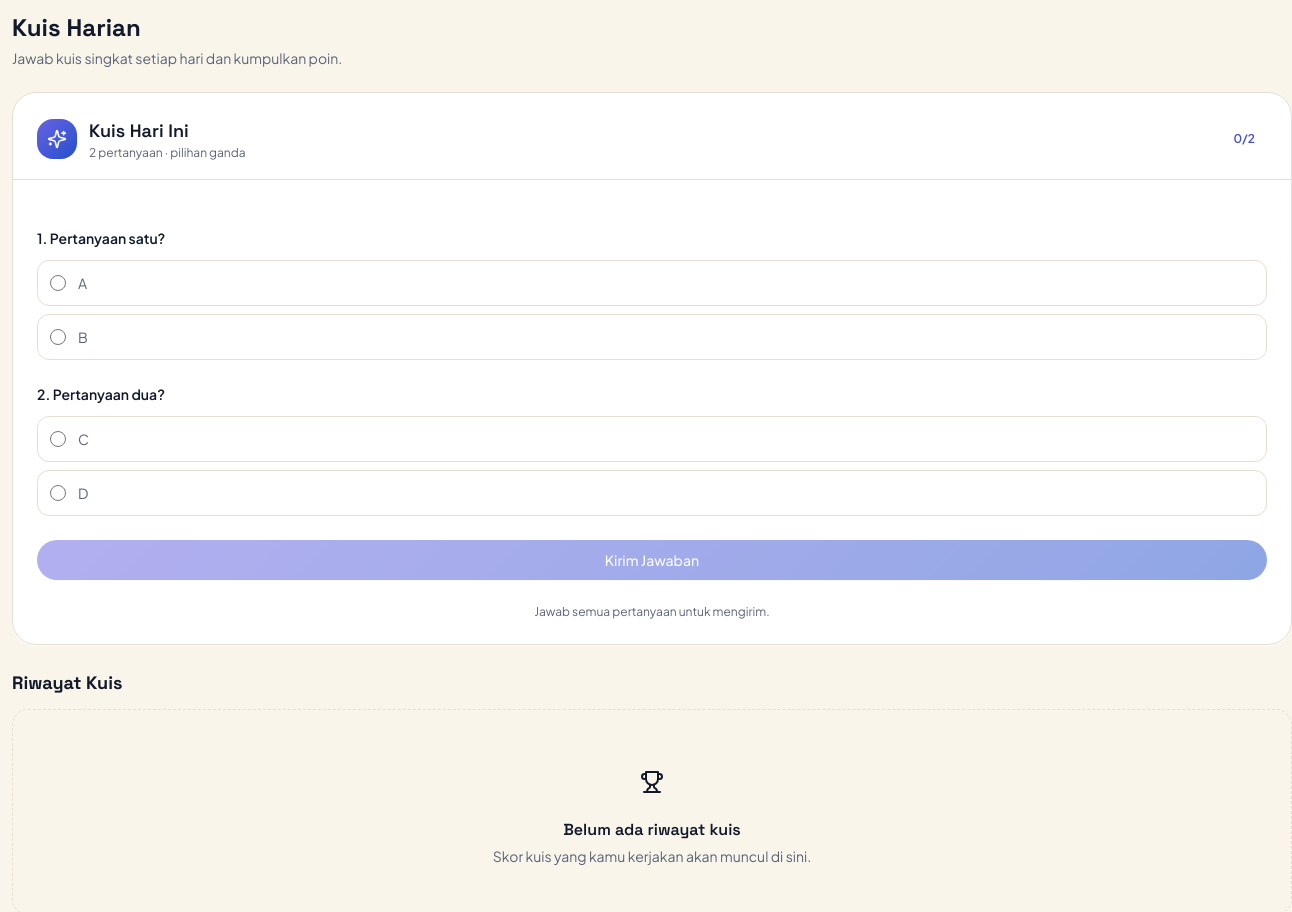
Test: QuizPage › keeps submit disabled until every question is answered
The image size is (1292, 912).
Expected: the button with test id "kuis.submit_button" is disabled, [37,540,1267,580]
Click the radio button with test id "kuis.option.1.2" at (58, 337), box [50,329,66,345]
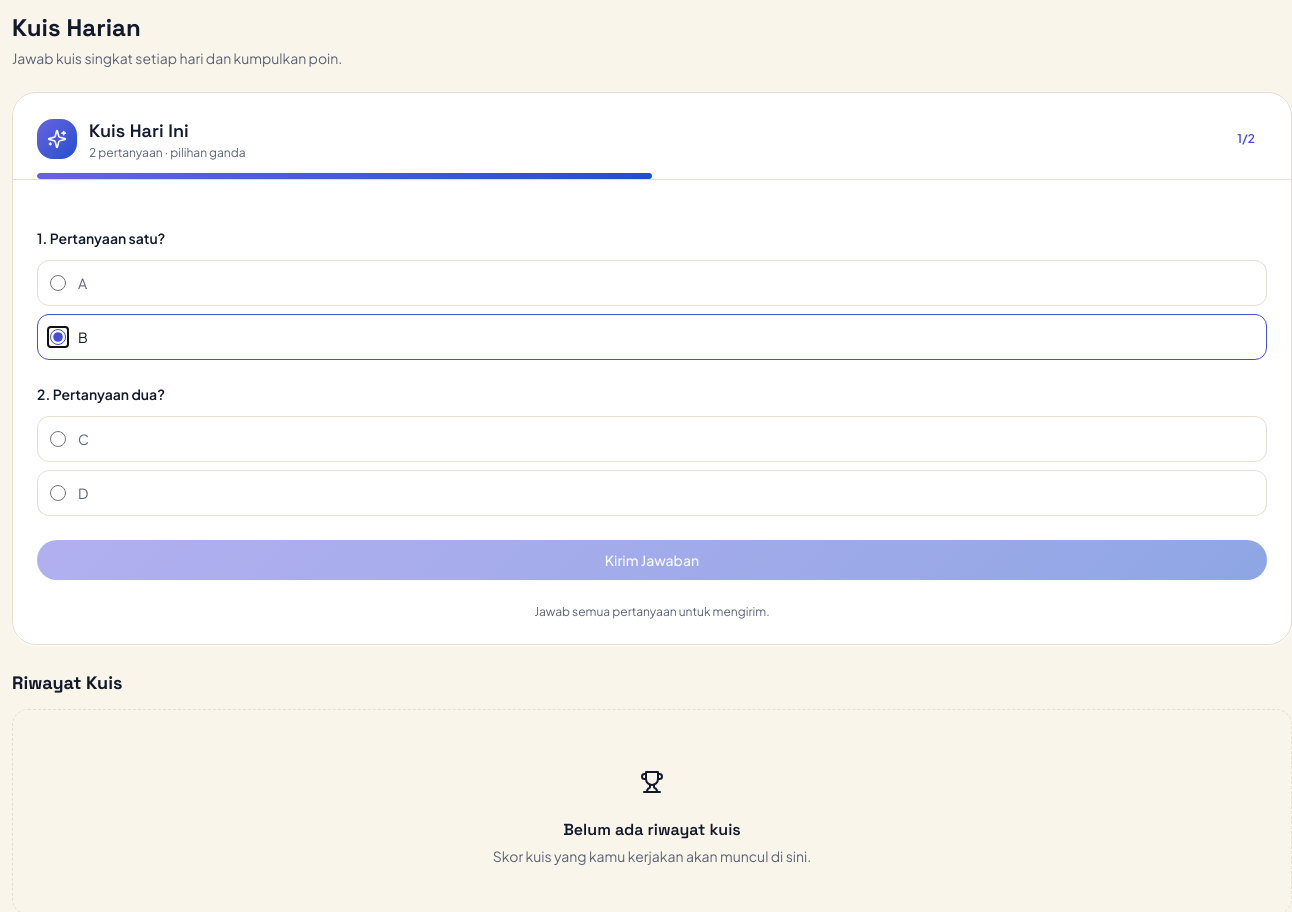
Expected: the button with test id "kuis.submit_button" is disabled, [37,540,1267,580]
Click the radio button with test id "kuis.option.2.2" at (58, 493), box [50,485,66,501]
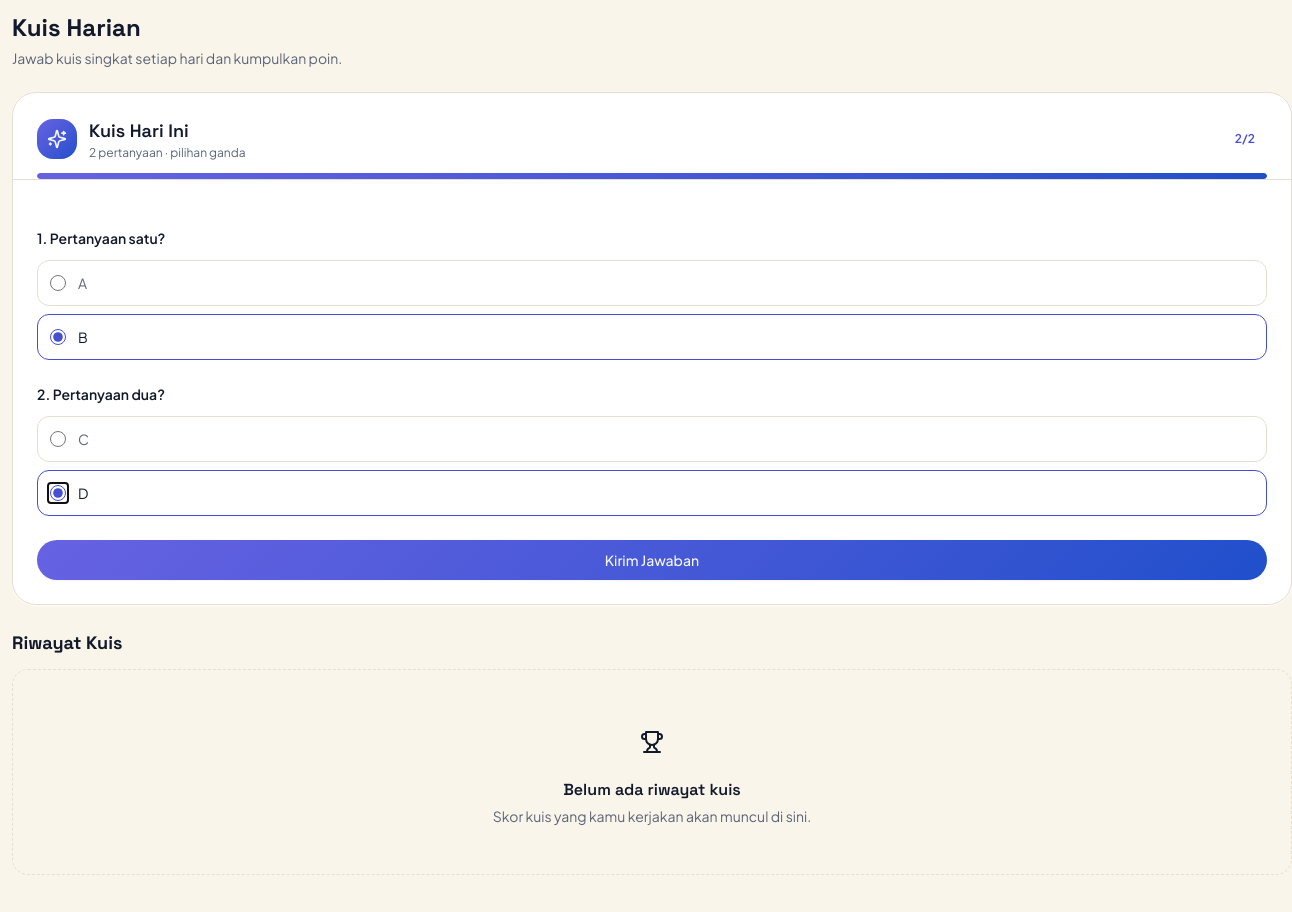
Result: the button with test id "kuis.submit_button" is enabled at [37,540,1267,580]
